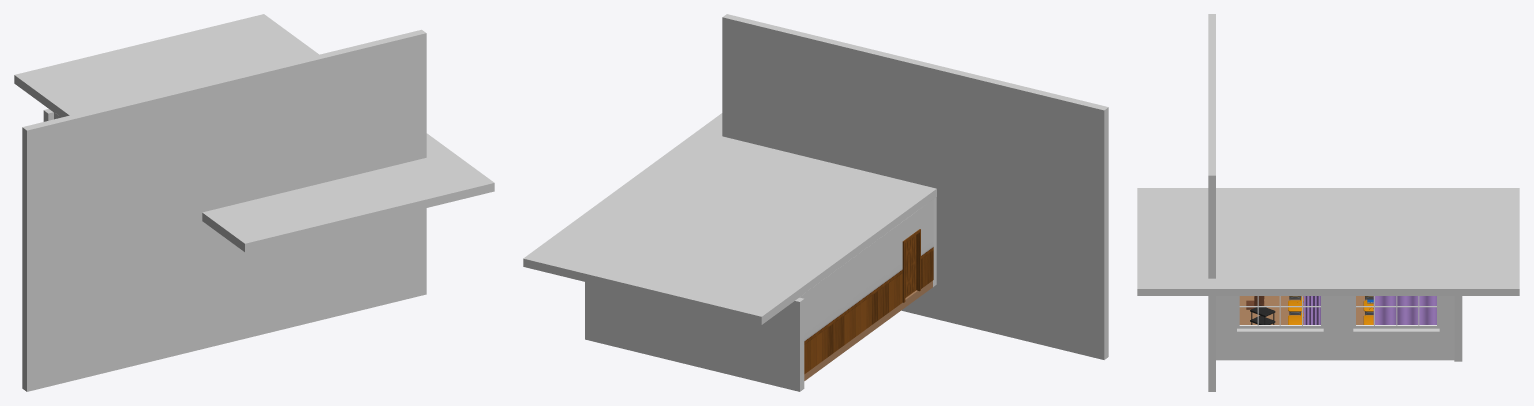
Rendered from classroom_demoscene_hq.glb.
The picture shows the model from 3 angles, left to right: view 1: azimuth 30°, elevation 25°; view 2: azimuth 150°, elevation 25°; view 3: azimuth 270°, elevation 25°; orthographic projection. The views are drawn at different scales.
Visible parts, largest first — view 1: wall. 4, wall. 3; view 2: wall. 4, wall. 3, wall.003, wall.002, wall. 2, walldoor.002, FLOOR, ExitDoor; view 3: wall. 3, wall - piece 1, wall. 4, Cylinder.015, FLOOR, wall.003, Plane.009, wall - piece 23, wall - piece 24, wall - piece 5, wall - piece 25, Cube.012.
Boxes of the visible parts, x1=… form: wall. 4: x1=22, y1=29, x2=426, y2=391; wall. 3: x1=14, y1=14, x2=494, y2=252; wall. 4: x1=722, y1=14, x2=1108, y2=359; wall. 3: x1=523, y1=113, x2=936, y2=324; wall.003: x1=585, y1=282, x2=804, y2=391; wall.002: x1=844, y1=232, x2=888, y2=344; wall. 2: x1=799, y1=264, x2=844, y2=374; walldoor.002: x1=889, y1=199, x2=933, y2=312; FLOOR: x1=804, y1=280, x2=932, y2=380; ExitDoor: x1=905, y1=235, x2=916, y2=297; wall. 3: x1=1137, y1=188, x2=1519, y2=295; wall - piece 1: x1=1216, y1=296, x2=1454, y2=360; wall. 4: x1=1208, y1=14, x2=1215, y2=391; Cylinder.015: x1=1373, y1=296, x2=1436, y2=324; FLOOR: x1=1239, y1=296, x2=1373, y2=324; wall.003: x1=1454, y1=296, x2=1462, y2=361; Plane.009: x1=1303, y1=296, x2=1320, y2=324; wall - piece 23: x1=1237, y1=296, x2=1323, y2=328; wall - piece 24: x1=1353, y1=296, x2=1439, y2=328; wall - piece 5: x1=1237, y1=328, x2=1323, y2=331; wall - piece 25: x1=1353, y1=328, x2=1439, y2=331; Cube.012: x1=1250, y1=305, x2=1275, y2=324.
Size of the model in its own units: 17.02 by 10 by 16.
123 materials, 122 textured.
